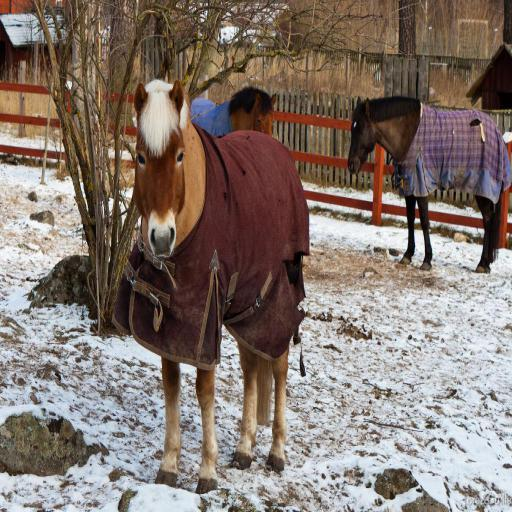Horse: (134, 75, 307, 493), (348, 96, 506, 272), (191, 85, 277, 136)
